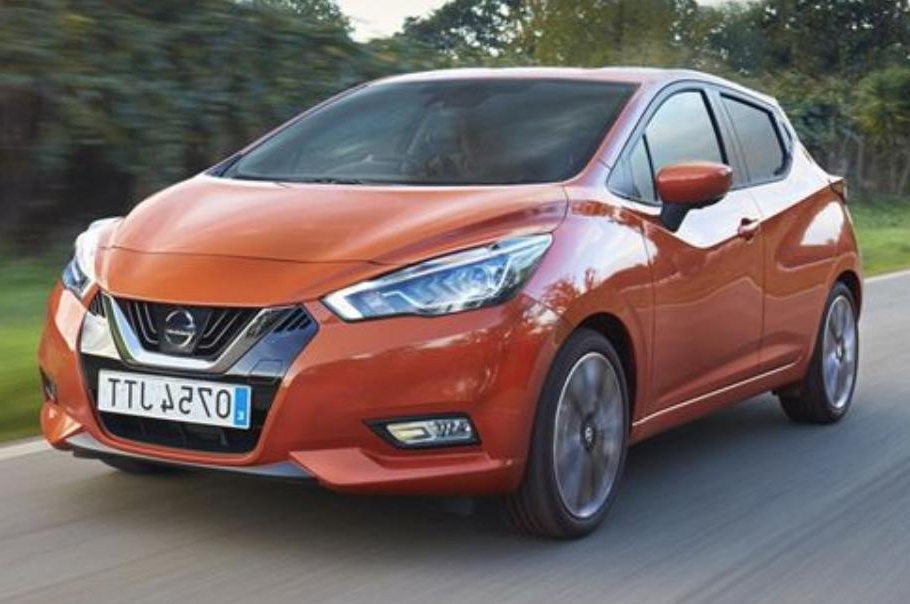car: (13, 51, 881, 568)
